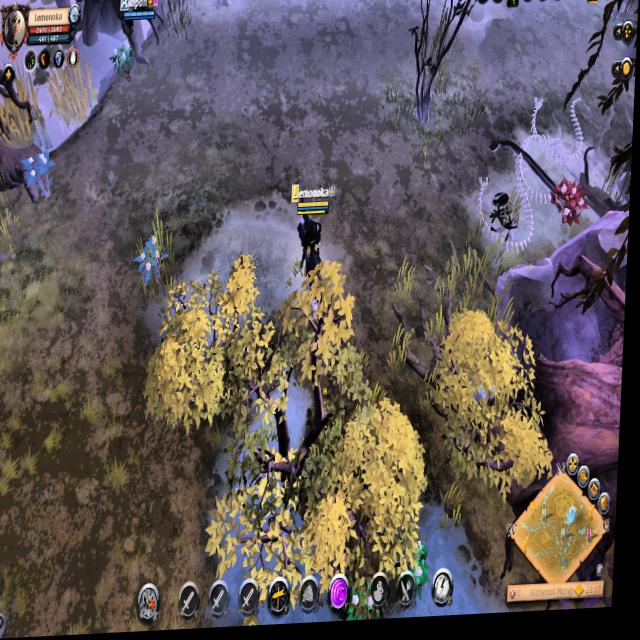fiber tier 3: (109, 39, 138, 88)
fiber tier 4: (134, 231, 174, 293), (18, 146, 58, 206)
fiber tier 5: (554, 178, 593, 247)
